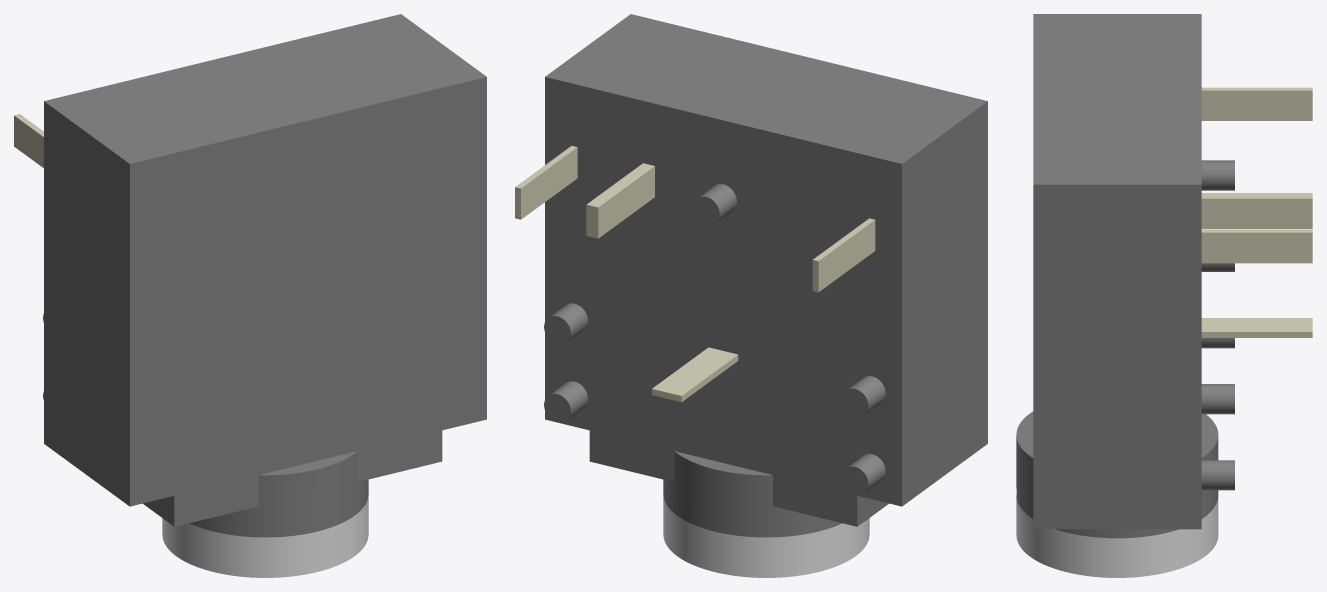
Rendered from Jack_3.5mm_CUI_SJ1-3524N_Horizontal.glb.
3 views of the same model, side by side, from view 1: azimuth 30°, elevation 25°; view 2: azimuth 150°, elevation 25°; view 3: azimuth 270°, elevation 25° (orthographic). The views are drawn at different scales.
Parts seen in each view (by area): view 1: Shape_IndexedFaceSet.002, Shape_IndexedFaceSet.003, Shape_IndexedFaceSet, Shape_IndexedFaceSet.048, Shape_IndexedFaceSet.037, Shape_IndexedFaceSet.010, Shape_IndexedFaceSet.008, Shape_IndexedFaceSet.022, Shape_IndexedFaceSet.009; view 2: Shape_IndexedFaceSet.004, Shape_IndexedFaceSet.003, Shape_IndexedFaceSet, Shape_IndexedFaceSet.048, Shape_IndexedFaceSet.037, Shape_IndexedFaceSet.011, Shape_IndexedFaceSet.013, Shape_IndexedFaceSet.022, Shape_IndexedFaceSet.027, Shape_IndexedFaceSet.031, Shape_IndexedFaceSet.020, Shape_IndexedFaceSet.030 (+11 smaller); view 3: Shape_IndexedFaceSet.006, Shape_IndexedFaceSet.003, Shape_IndexedFaceSet.048, Shape_IndexedFaceSet.029, Shape_IndexedFaceSet.033, Shape_IndexedFaceSet.024, Shape_IndexedFaceSet.037, Shape_IndexedFaceSet.036, Shape_IndexedFaceSet.020, Shape_IndexedFaceSet.026, Shape_IndexedFaceSet.016, Shape_IndexedFaceSet.021 (+5 smaller).
Part boxes in pixels (x1,y1,x2,y2): Shape_IndexedFaceSet.002: (130,77,486,506); Shape_IndexedFaceSet.003: (44,14,486,163); Shape_IndexedFaceSet: (44,101,129,506); Shape_IndexedFaceSet.048: (162,495,368,577); Shape_IndexedFaceSet.037: (189,451,368,537); Shape_IndexedFaceSet.010: (357,430,442,481); Shape_IndexedFaceSet.008: (174,475,258,526); Shape_IndexedFaceSet.022: (14,115,43,167); Shape_IndexedFaceSet.009: (260,451,357,475); Shape_IndexedFaceSet.004: (545,77,901,506); Shape_IndexedFaceSet.003: (545,14,987,163); Shape_IndexedFaceSet: (902,101,987,506); Shape_IndexedFaceSet.048: (663,496,869,577); Shape_IndexedFaceSet.037: (663,451,841,537); Shape_IndexedFaceSet.011: (773,475,857,526); Shape_IndexedFaceSet.013: (589,430,673,481); Shape_IndexedFaceSet.022: (818,220,875,291); Shape_IndexedFaceSet.027: (598,166,654,238); Shape_IndexedFaceSet.031: (521,147,577,219); Shape_IndexedFaceSet.020: (652,347,737,395); Shape_IndexedFaceSet.030: (587,163,654,207); Shape_IndexedFaceSet.006: (1033,184,1201,519); Shape_IndexedFaceSet.003: (1033,14,1201,184); Shape_IndexedFaceSet.048: (1016,495,1218,577); Shape_IndexedFaceSet.029: (1201,198,1312,229); Shape_IndexedFaceSet.033: (1201,232,1312,263); Shape_IndexedFaceSet.024: (1201,90,1312,120); Shape_IndexedFaceSet.037: (1016,435,1218,538); Shape_IndexedFaceSet.036: (1033,520,1201,529); Shape_IndexedFaceSet.020: (1201,318,1312,331); Shape_IndexedFaceSet.026: (1201,160,1234,190); Shape_IndexedFaceSet.016: (1201,460,1234,490); Shape_IndexedFaceSet.021: (1201,384,1234,414).
Size of the model in its own units: 4.72 by 5.63 by 3.46.
